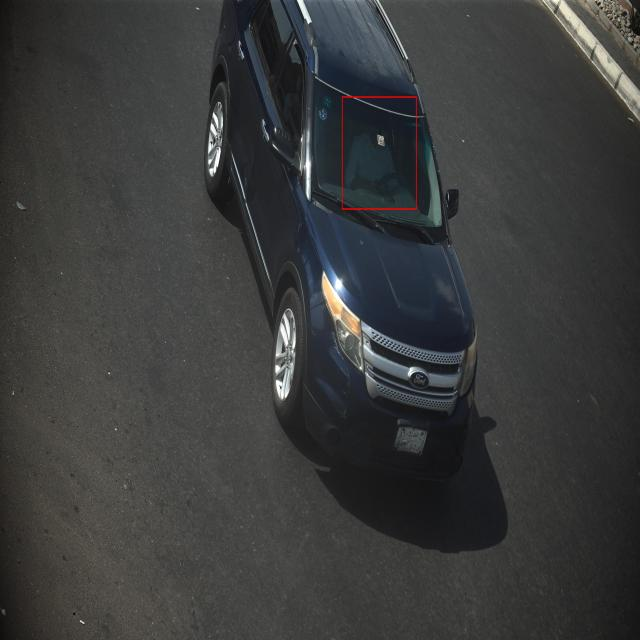windshield: (310, 68, 448, 248)
